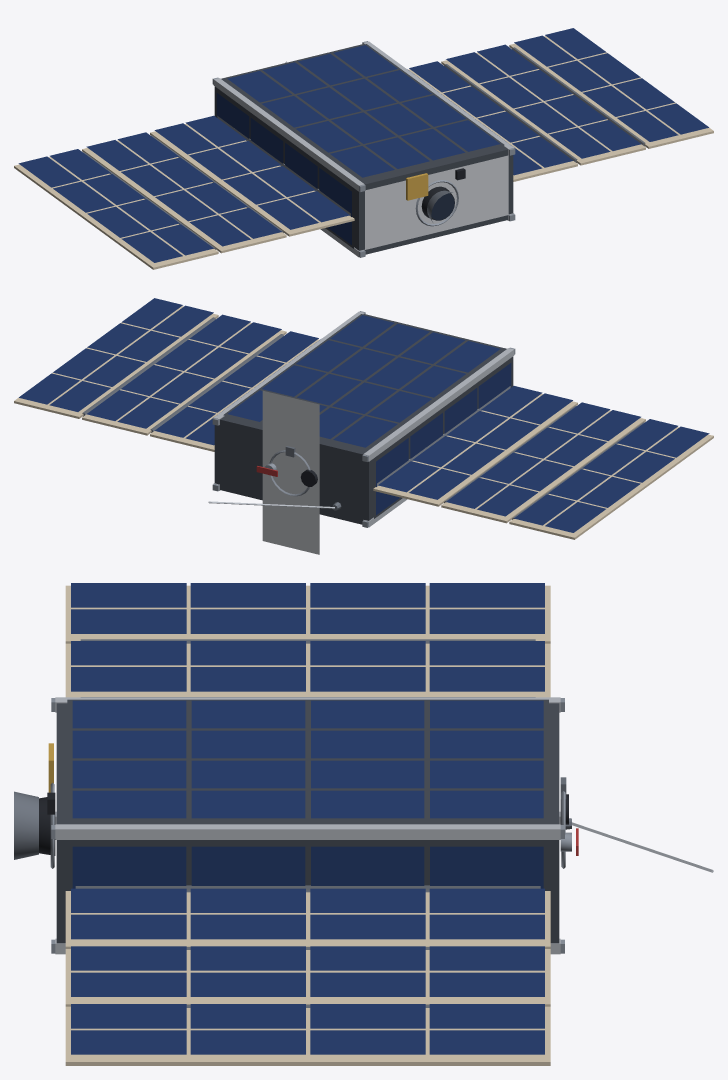
Rendered from cubesat-6u-wings.glb.
The picture shows the model from 3 angles, top to bottom: view 1: azimuth 30°, elevation 25°; view 2: azimuth 150°, elevation 25°; view 3: azimuth 270°, elevation 25°; orthographic projection. The views are drawn at different scales.
Visible parts, largest first — view 1: solar-panel, body; view 2: solar-panel, body; view 3: solar-panel, body.
Part boxes in pixels (x1,y1,x2,y2): solar-panel: (18,28,708,262); body: (14,36,713,269); solar-panel: (19,298,709,532); body: (14,306,713,554); solar-panel: (71,583,544,1054); body: (14,585,578,1065).
Size of the model in its own units: 0.8163 by 0.2093 by 0.5069.
